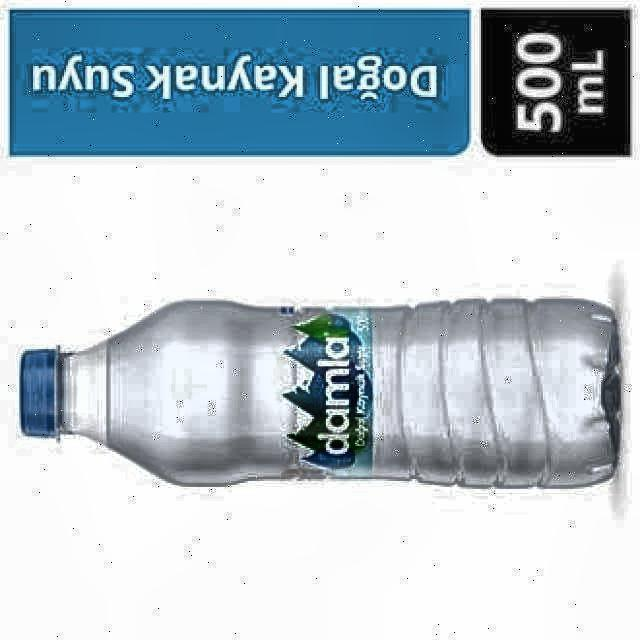plastic: (20, 300, 618, 487)
